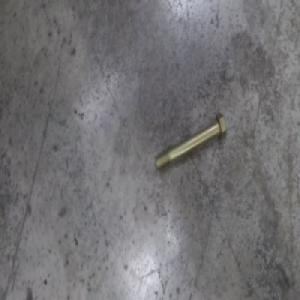Bolt: (154, 112, 226, 173)
